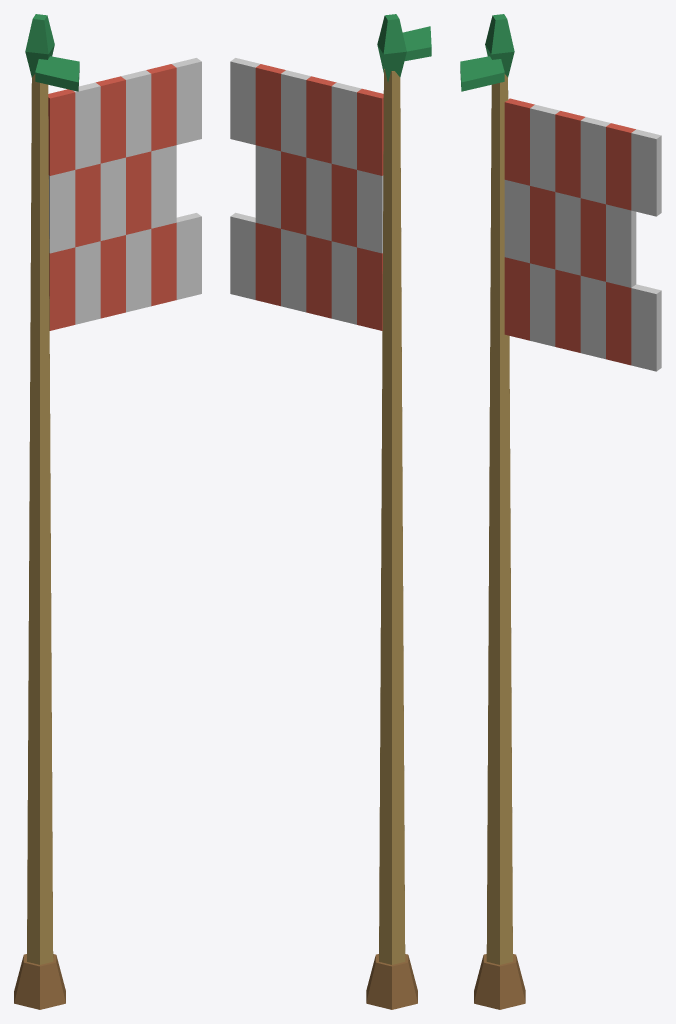
The model's file is flag.glb.
3 views of the same model, side by side, from view 1: azimuth 30°, elevation 25°; view 2: azimuth 150°, elevation 25°; view 3: azimuth 330°, elevation 25° (orthographic).
Parts seen in each view (by area): view 1: palmCove-flag; view 2: palmCove-flag; view 3: palmCove-flag.
Part boxes in pixels (x1,y1,x2,y2): palmCove-flag: (14,14,201,1009); palmCove-flag: (230,14,431,1009); palmCove-flag: (460,14,661,1009).
Bounding box in the file's own units: 0.25 × 1.26 × 0.1203.
